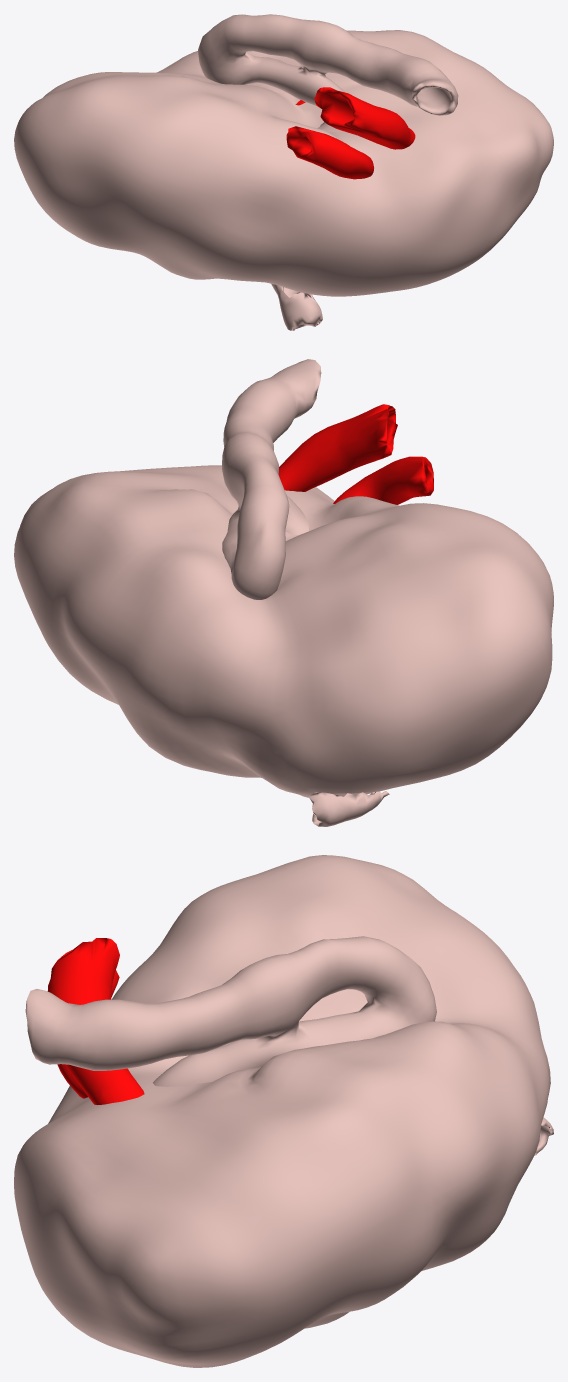
3 views of the same model, one above another, from view 1: azimuth 30°, elevation 25°; view 2: azimuth 150°, elevation 25°; view 3: azimuth 270°, elevation 25° (orthographic). The views are drawn at different scales.
Visible parts, largest first — view 1: Yao_capsule_of_lymph_node, Yao_efferent_lymph_node, Yao_blood_vasculature, Yao_afferent_lymphatic_vessel; view 2: Yao_capsule_of_lymph_node, Yao_efferent_lymph_node, Yao_blood_vasculature, Yao_afferent_lymphatic_vessel; view 3: Yao_capsule_of_lymph_node, Yao_efferent_lymph_node, Yao_blood_vasculature.
Boxes of the visible parts, box(x1,y1,x2,y2) form: Yao_capsule_of_lymph_node: box(14, 30, 553, 296); Yao_efferent_lymph_node: box(198, 14, 458, 132); Yao_blood_vasculature: box(286, 87, 415, 179); Yao_afferent_lymphatic_vessel: box(271, 284, 322, 330); Yao_capsule_of_lymph_node: box(14, 465, 553, 797); Yao_efferent_lymph_node: box(222, 359, 321, 599); Yao_blood_vasculature: box(279, 404, 433, 504); Yao_afferent_lymphatic_vessel: box(309, 791, 389, 826); Yao_capsule_of_lymph_node: box(14, 855, 550, 1367); Yao_efferent_lymph_node: box(25, 936, 436, 1086); Yao_blood_vasculature: box(47, 938, 144, 1104).
Bounding box in the file's own units: 0.0183 × 0.0106 × 0.013.
